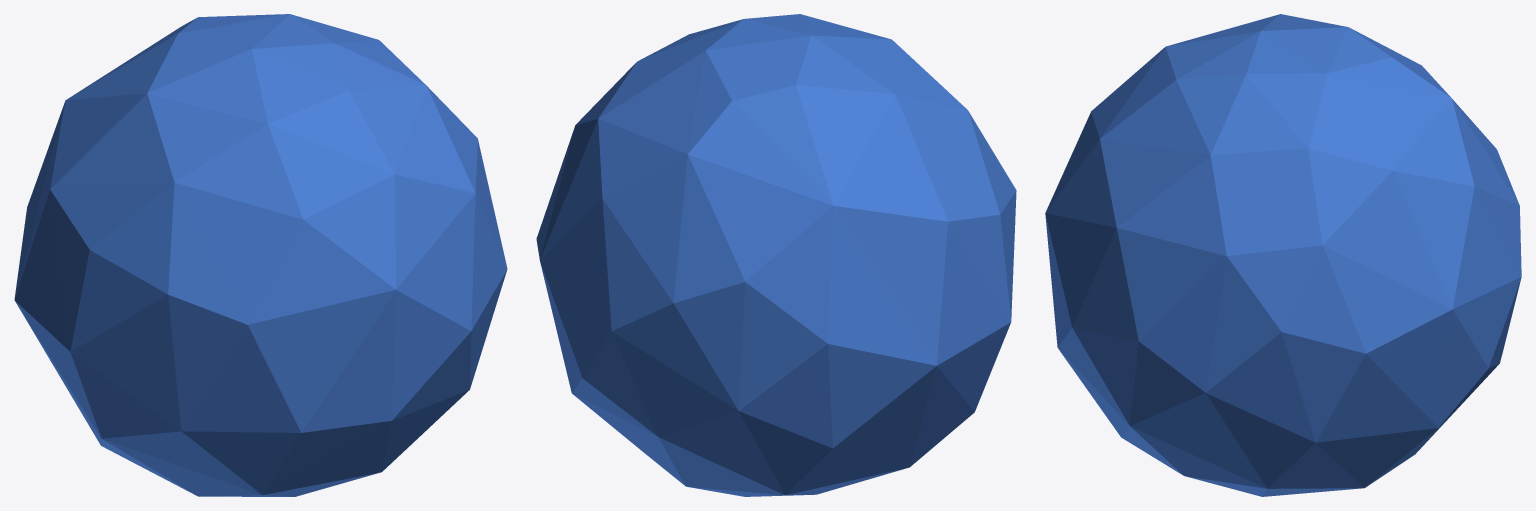
Rendered from Lowpoly_SphereShield.fbx.
3 renders of one model, left to right at view 1: azimuth 30°, elevation 25°; view 2: azimuth 150°, elevation 25°; view 3: azimuth 270°, elevation 25°, orthographic.
Visible parts, largest first — view 1: Sphere; view 2: Sphere; view 3: Sphere.
Boxes of the visible parts, x1,y1,x2,y2 form: Sphere: [14, 14, 507, 496]; Sphere: [536, 14, 1016, 496]; Sphere: [1045, 14, 1521, 496].
Size of the model in its own units: 200 by 197 by 198.
